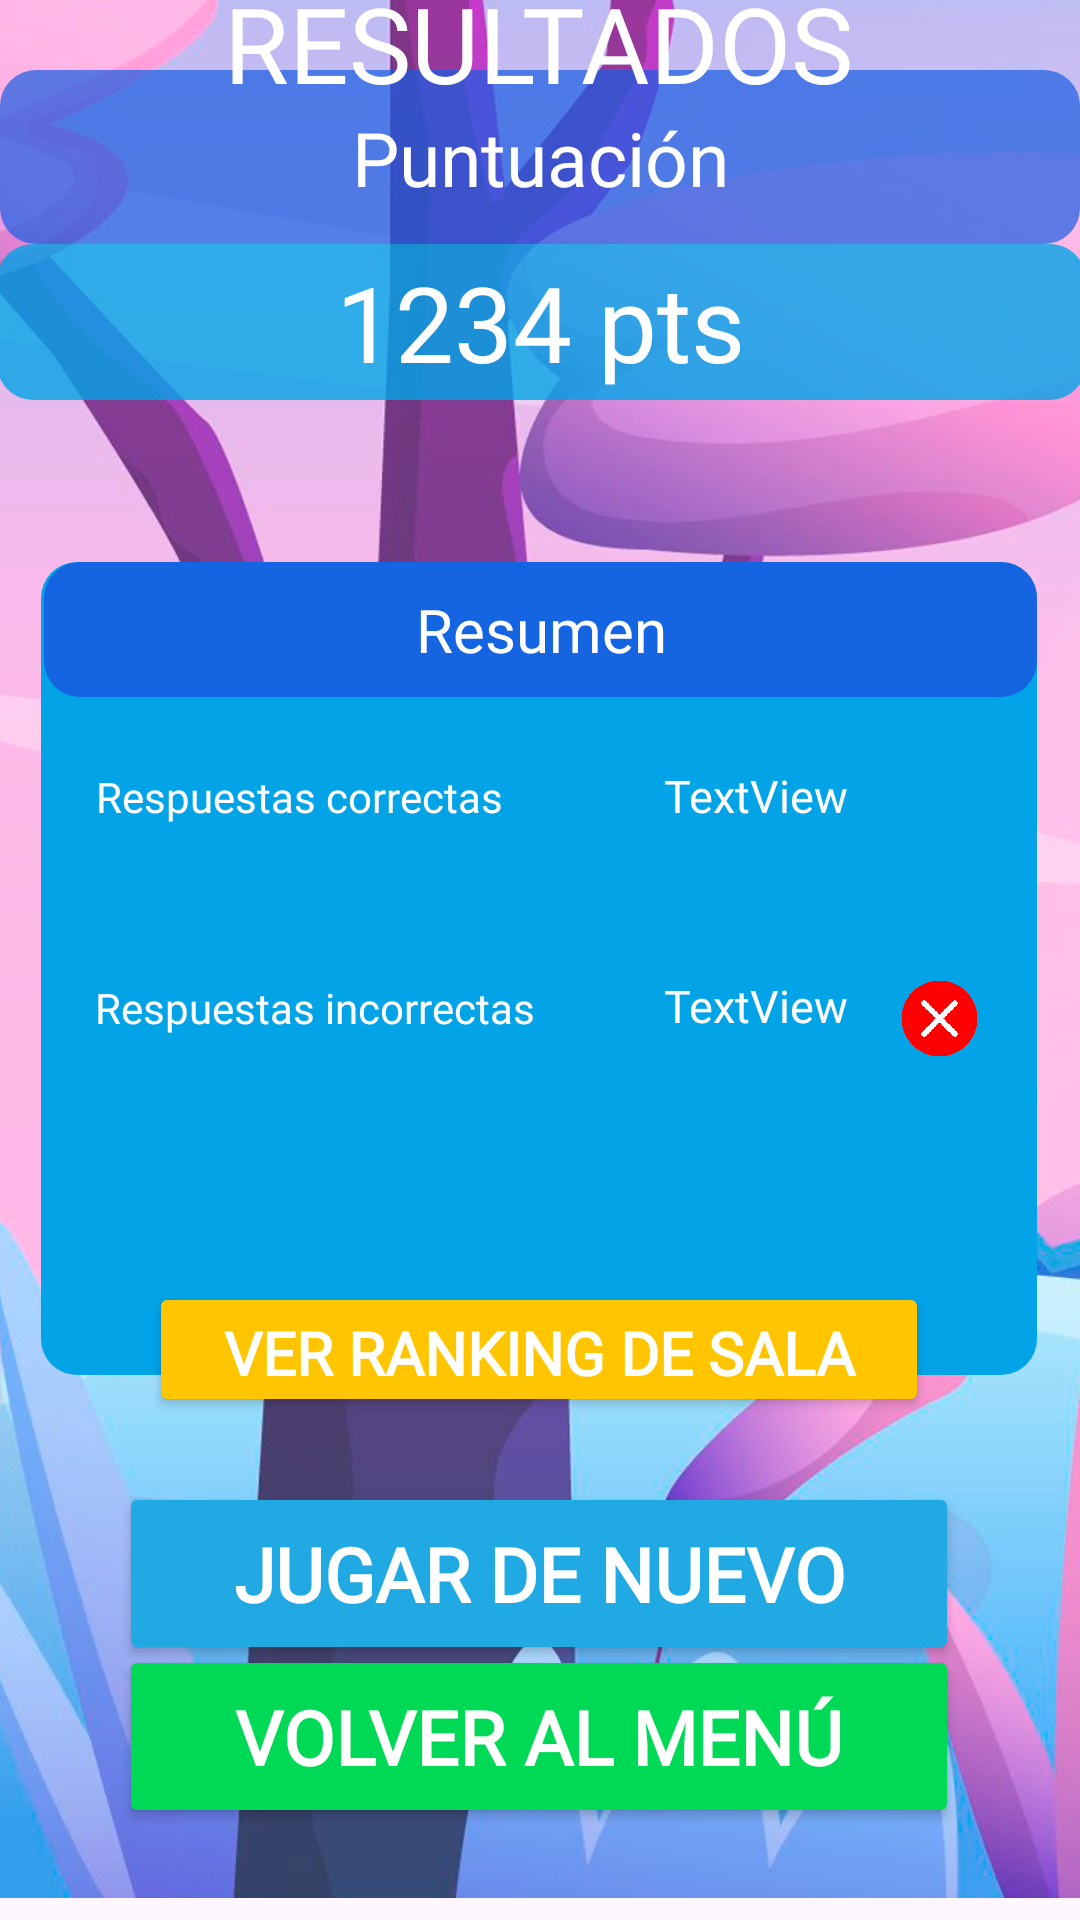

Named icons in this screenshot (1080x1920) and their bounding boxes, [x1=x1, y1=y1, x2=x2, y2=y2]:
cruceta: [x1=902, y1=981, x2=977, y2=1056]
